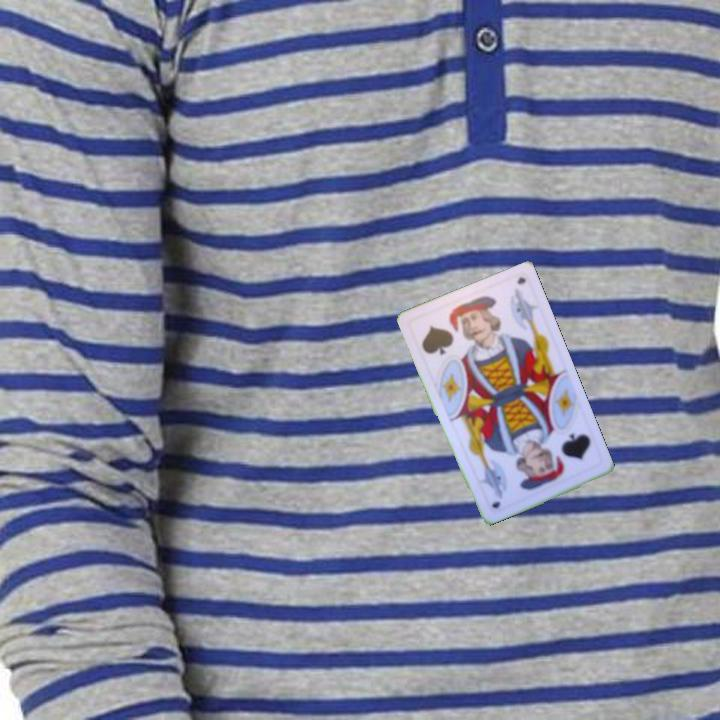s_j.png: (407, 295, 490, 373), (522, 415, 604, 492)
